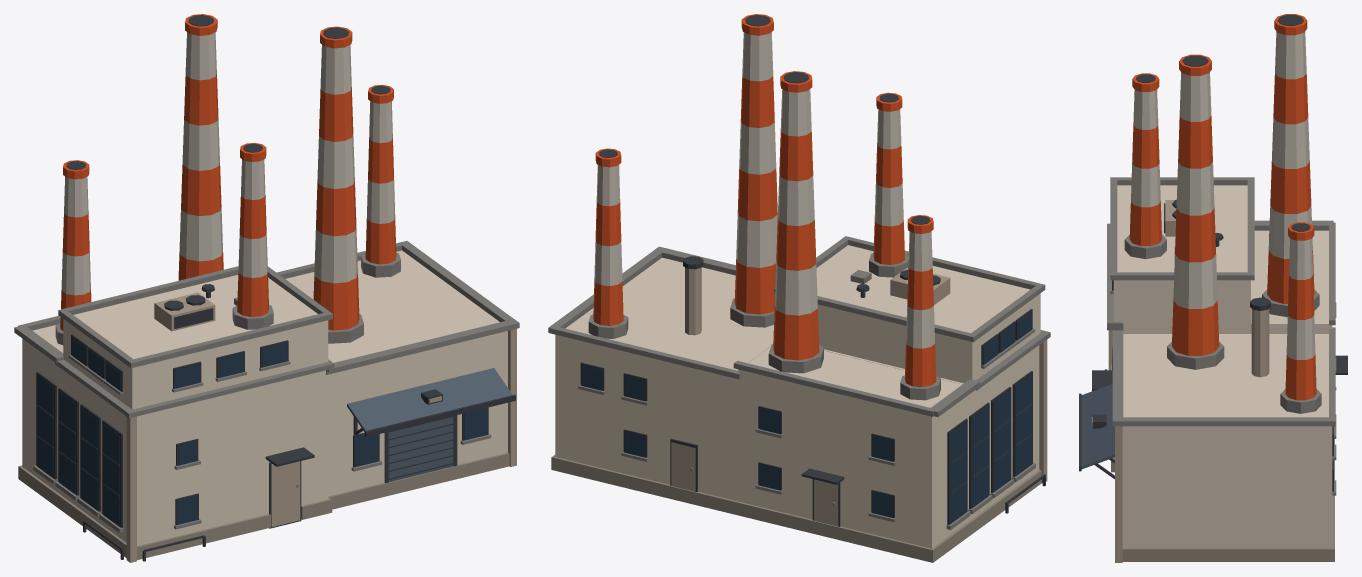
File: mills_ factory.fbx
3 renders of one model, left to right at view 1: azimuth 30°, elevation 25°; view 2: azimuth 150°, elevation 25°; view 3: azimuth 270°, elevation 25°, orthographic.
Parts seen in each view (by area): view 1: Right_Foundation; view 2: Right_Foundation; view 3: Right_Foundation.
Part boxes in pixels (<box>): Right_Foundation: <box>14,14,519,562</box>; Right_Foundation: <box>548,14,1050,562</box>; Right_Foundation: <box>1079,14,1347,562</box>.
Bounding box in the file's own units: 1450 × 1540 × 861.
